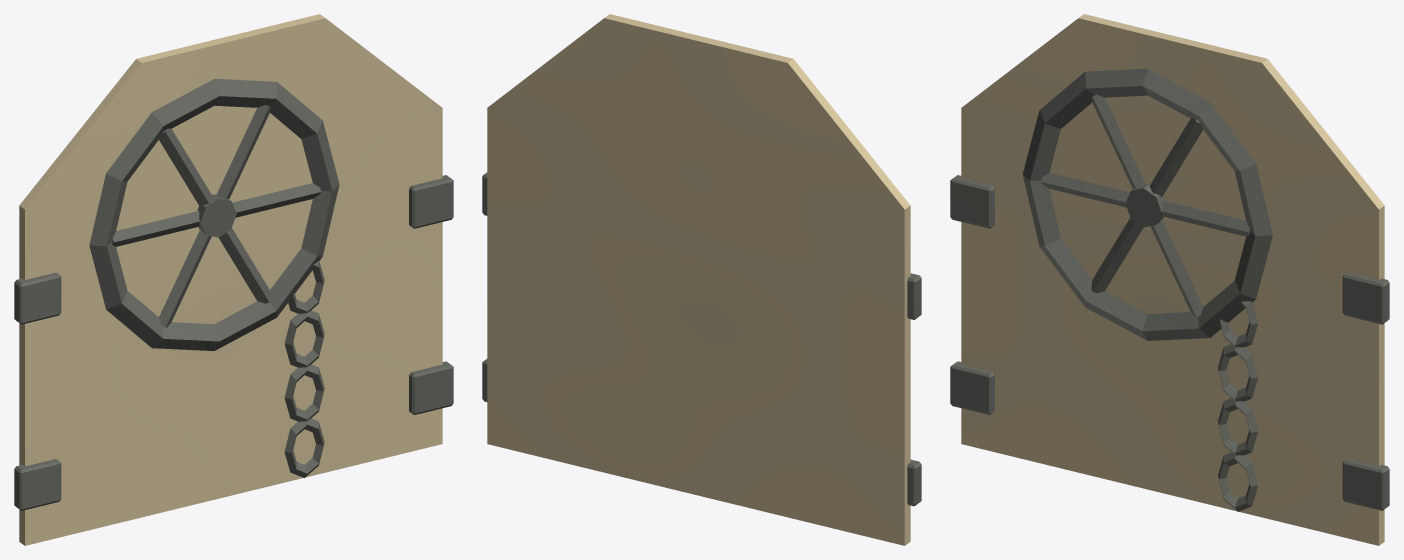
File: WarrensC_CCS79_SluiceIdentityPlaque_Mars_SM.fbx
3 renders of one model, left to right at view 1: azimuth 30°, elevation 25°; view 2: azimuth 150°, elevation 25°; view 3: azimuth 330°, elevation 25°, orthographic.
Parts seen in each view (by area): view 1: WarrensC_CCS79_SluiceIdentityPlaque_Mars_SM.001; view 2: WarrensC_CCS79_SluiceIdentityPlaque_Mars_SM.001; view 3: WarrensC_CCS79_SluiceIdentityPlaque_Mars_SM.001.
Boxes of the visible parts, left/top/right/bottom form: WarrensC_CCS79_SluiceIdentityPlaque_Mars_SM.001: left=14, top=14, right=453, bottom=545; WarrensC_CCS79_SluiceIdentityPlaque_Mars_SM.001: left=482, top=14, right=921, bottom=545; WarrensC_CCS79_SluiceIdentityPlaque_Mars_SM.001: left=950, top=14, right=1389, bottom=545.
Bounding box in the file's own units: 60 × 3 × 60.
